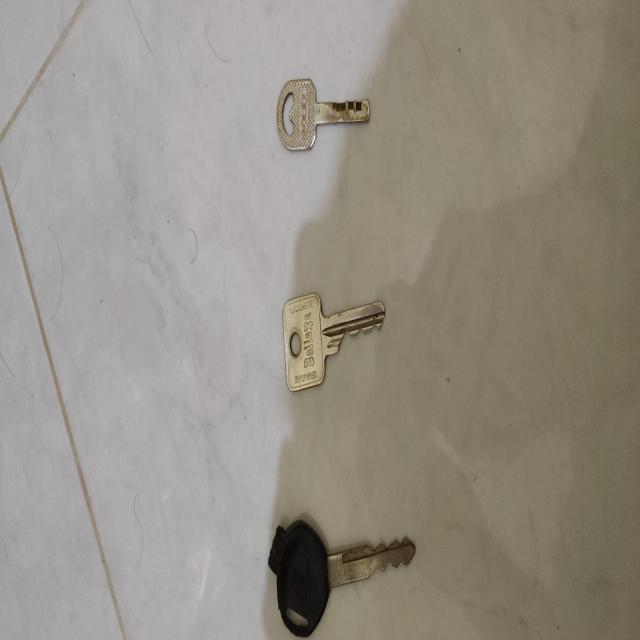kunci_kos: (280, 293, 388, 398)
kunci_motor: (263, 514, 422, 639)
kunci_pagar: (274, 68, 374, 160)
